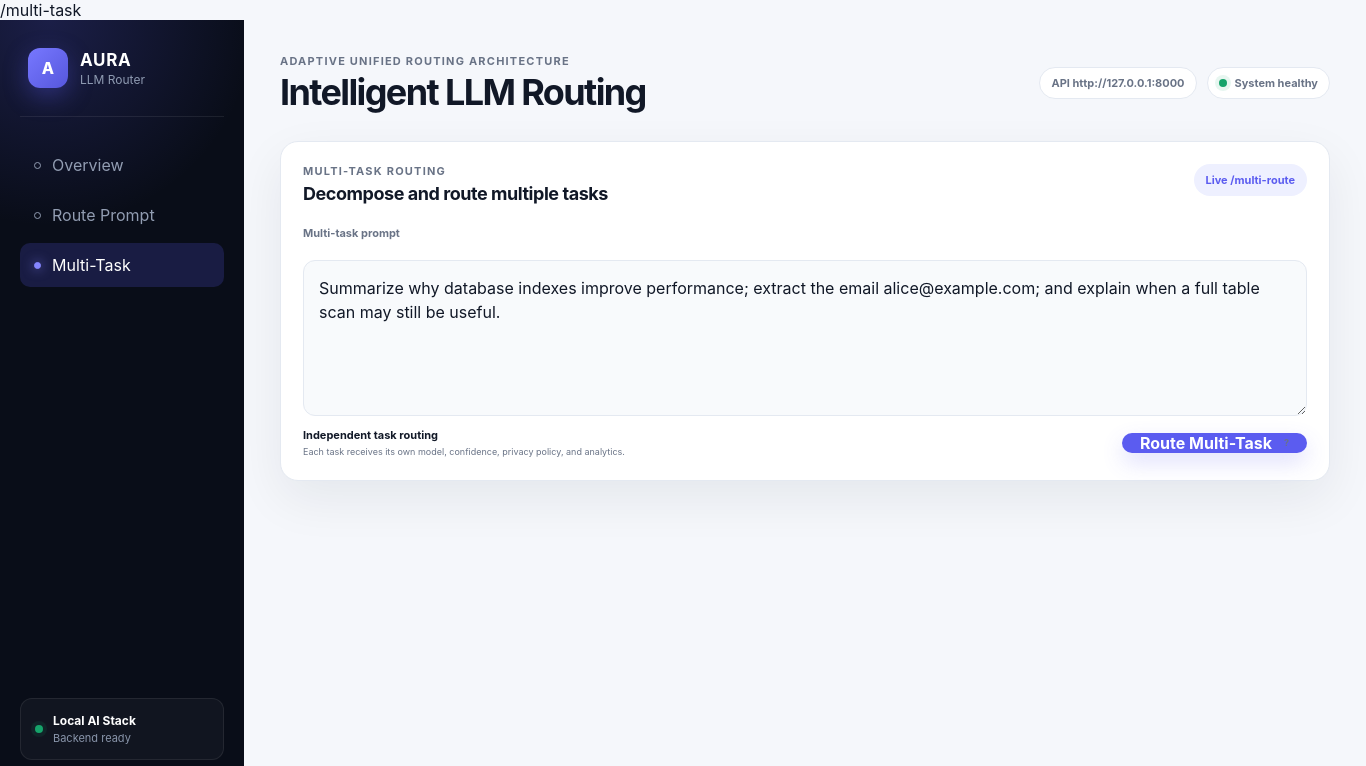
it: AURA routed dashboard › replaces a saved Multi-Task result on a new submission
The width and height of the screenshot is (1366, 766).
Expected: the text "System healthy" is shown, x1=1206 y1=67 x2=1330 y2=99
Click the button "Route Multi-Task ?".
click(1214, 443)  # box x1=1122 y1=433 x2=1307 y2=453
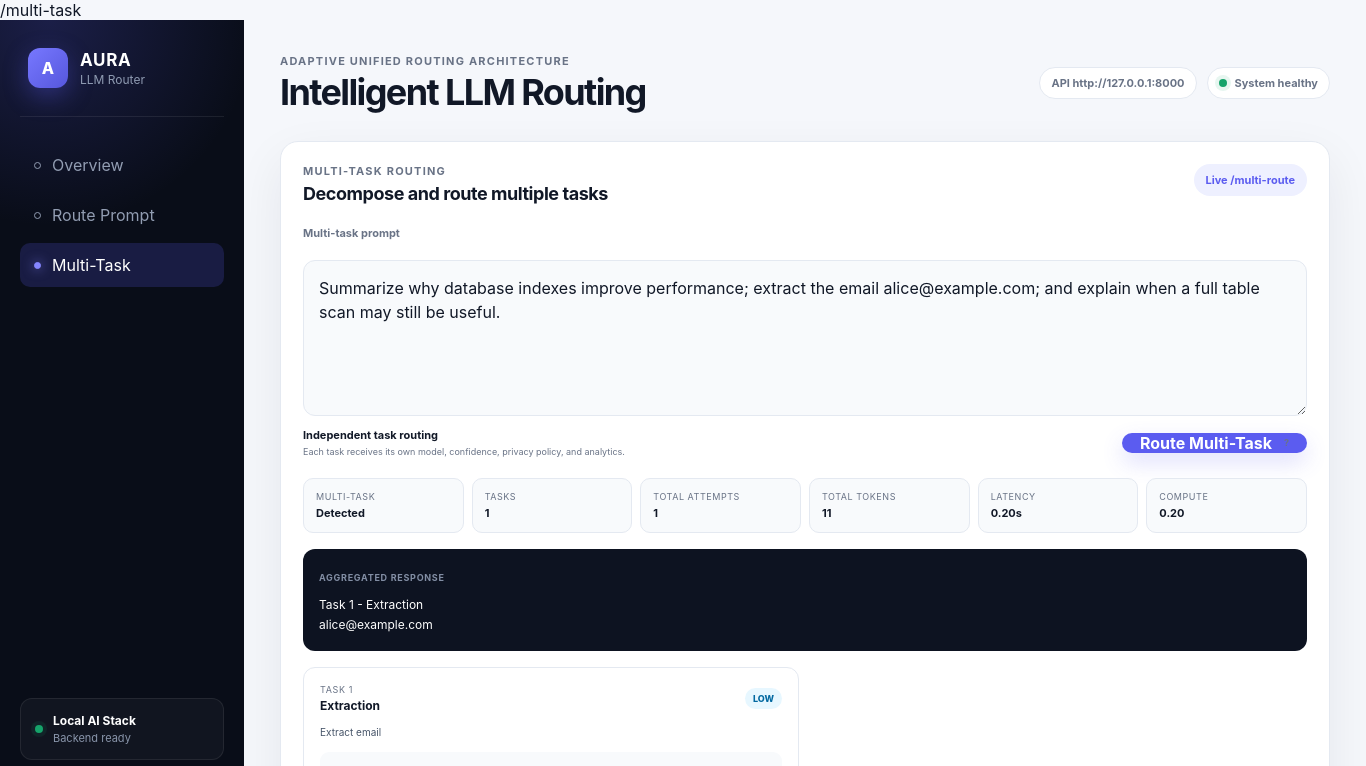
Click the button "Route Multi-Task ?".
click(1214, 443)  # box x1=1122 y1=433 x2=1307 y2=453
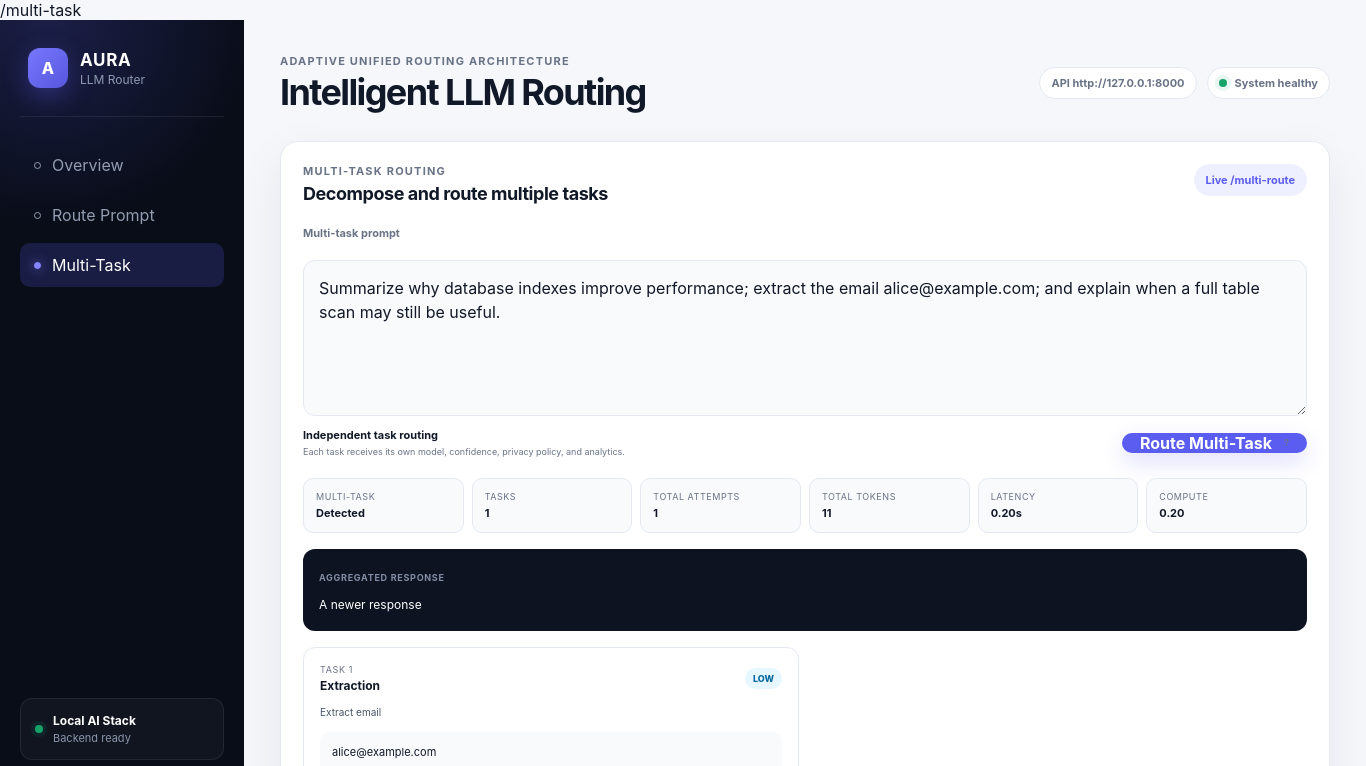
Result: the text "A newer response" is shown at x1=319 y1=597 x2=422 y2=612
Result: the text "Task 1 - Extraction" is gone
